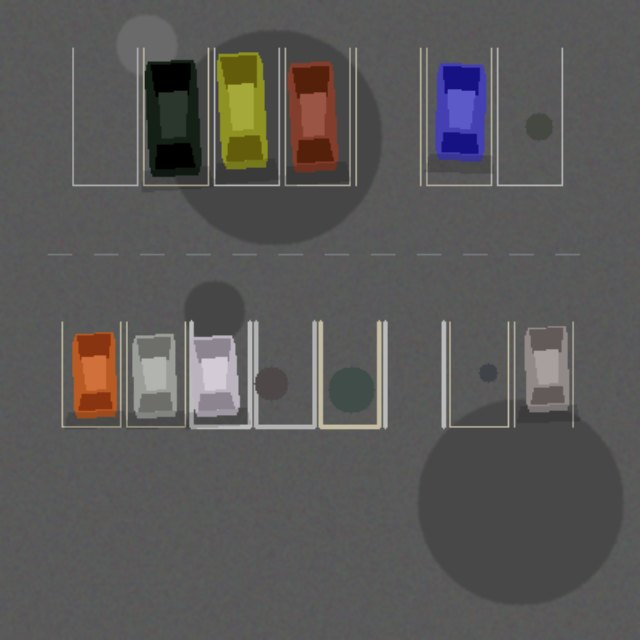space-empty: (72, 48, 137, 185), (355, 48, 420, 185), (497, 48, 562, 185), (255, 322, 314, 426), (449, 322, 508, 426), (320, 322, 378, 426), (385, 322, 443, 426)
space-occupied: (143, 48, 208, 185), (426, 48, 491, 185), (214, 48, 278, 185), (285, 48, 349, 185), (126, 322, 185, 426), (62, 322, 120, 426), (191, 322, 249, 426), (514, 322, 572, 426)
